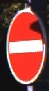No entry: (5, 8, 43, 83)
